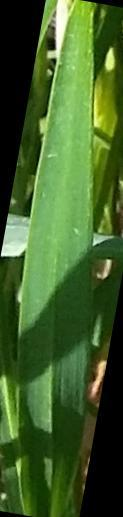Wheat: (24, 277, 90, 516), (31, 128, 91, 271), (53, 0, 96, 120)
